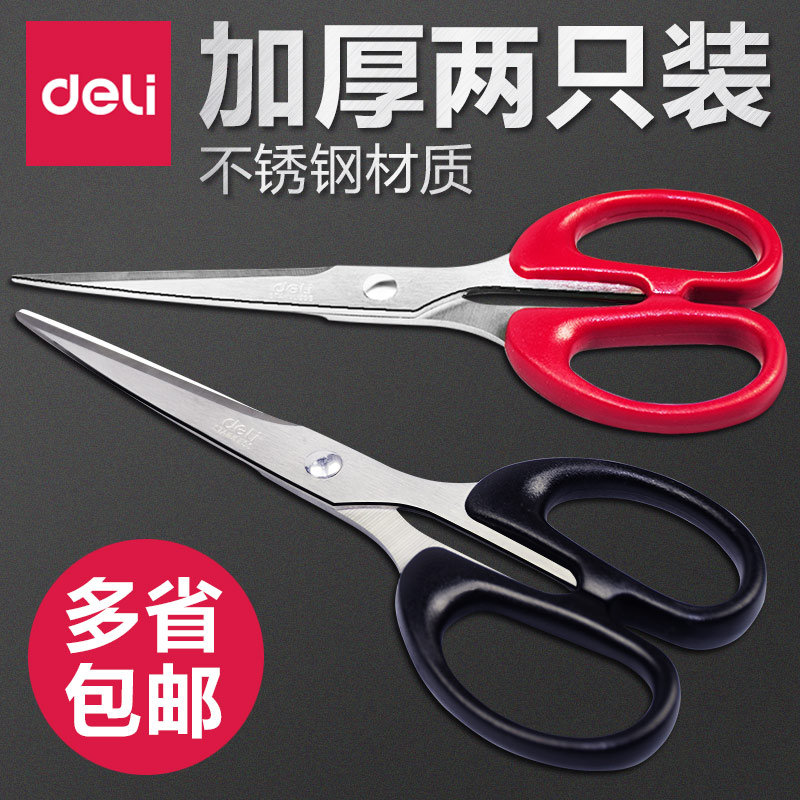scissors: (8, 302, 774, 778), (6, 189, 793, 438)
